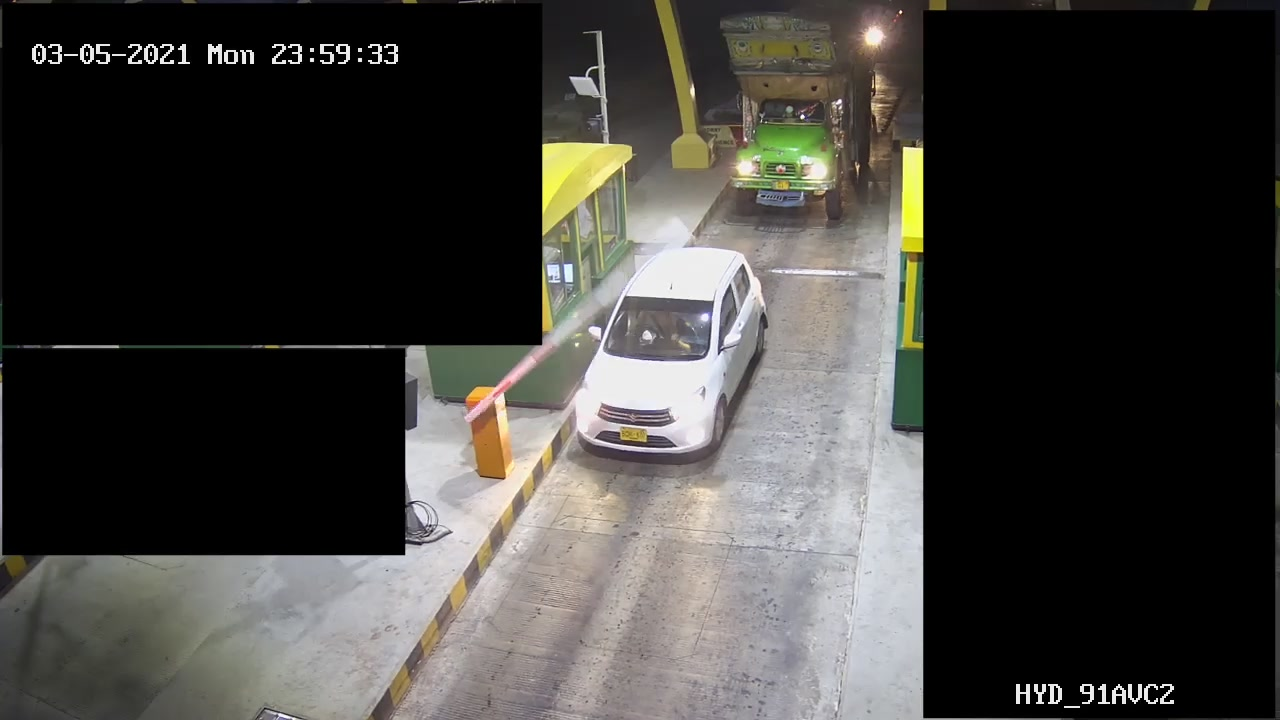F1: (573, 236, 772, 472)
